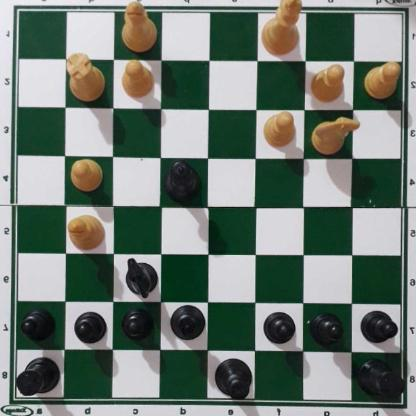black-bishop: (167, 305, 206, 343)
black-king: (212, 358, 254, 402)
black-knight: (120, 258, 158, 301)
black-pawn: (360, 311, 396, 347), (309, 315, 344, 348), (262, 314, 295, 349), (20, 312, 54, 344), (73, 312, 105, 346), (121, 310, 153, 344)
black-queen: (161, 161, 201, 205)
black-rook: (12, 358, 59, 401), (358, 360, 404, 402)
white-bishop: (121, 1, 157, 56), (66, 215, 104, 252)
white-king: (260, 0, 304, 57)
white-knight: (310, 117, 361, 157)
white-pawn: (309, 63, 347, 105), (363, 62, 401, 101), (120, 60, 154, 100), (262, 113, 295, 150), (69, 158, 103, 193)
white-rook: (64, 53, 105, 102)
